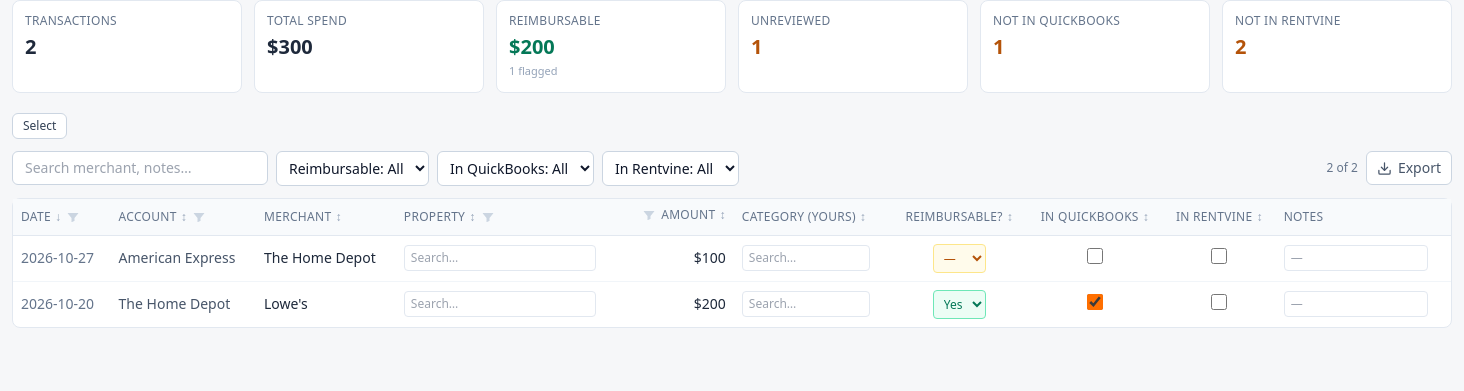
Scenario: TransactionsTable › rolls back the optimistic edit when the save fails
What coordinates should you click on to do the following:
click the checkbox named "quickbooks-t1"
I would click on:
 (1095, 256)
Its box is x1=1087 y1=248 x2=1103 y2=264.
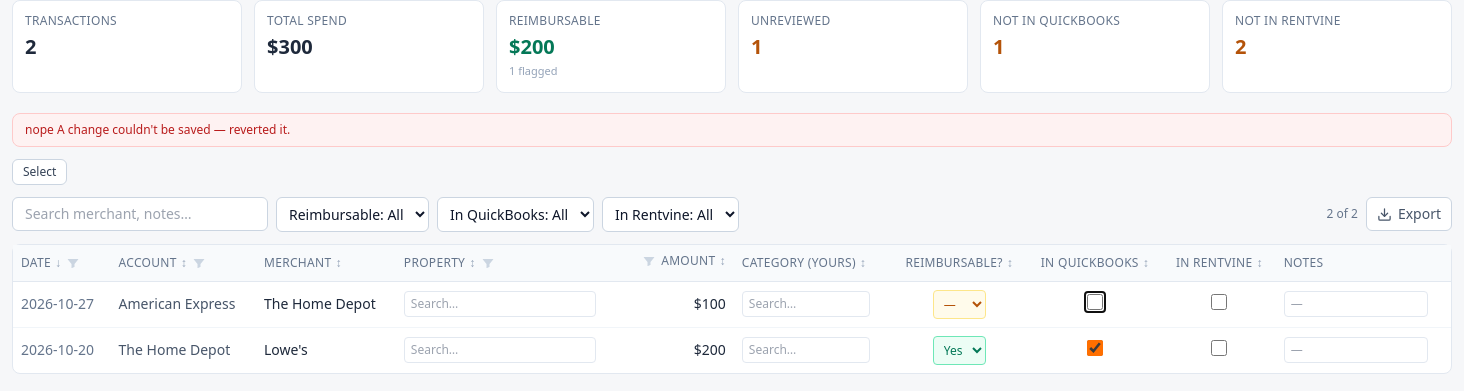
Expected: the checkbox named "quickbooks-t1" is not checked, x1=1087 y1=294 x2=1103 y2=310
Result: the text "nope A change couldn't be saved — reverted it." is shown at x1=12 y1=112 x2=1452 y2=146
